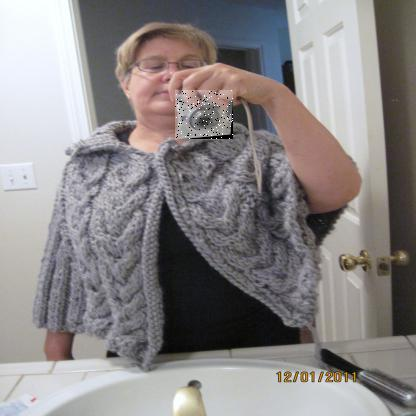Camera: (176, 91, 235, 141)
